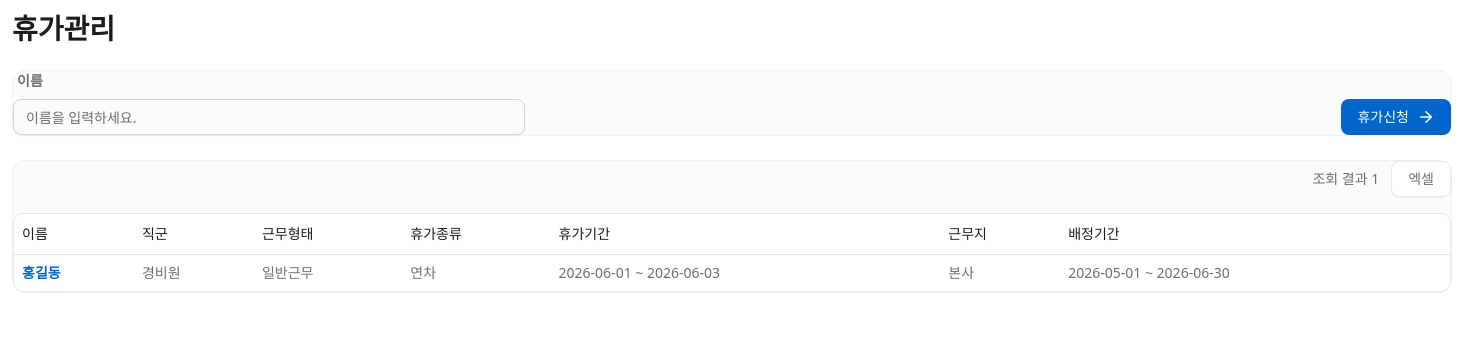
Test: leave page › shows leave rows, filters by name, and links to the detail page
The width and height of the screenshot is (1464, 358).
Expected: the column heading "이름" is shown, [14, 214, 134, 254]
Expected: the column heading "직군" is shown, [134, 214, 254, 254]
Type "김철수" into the field labelled "이름".
click(269, 117); type("김철수")  # box [13, 99, 525, 135]
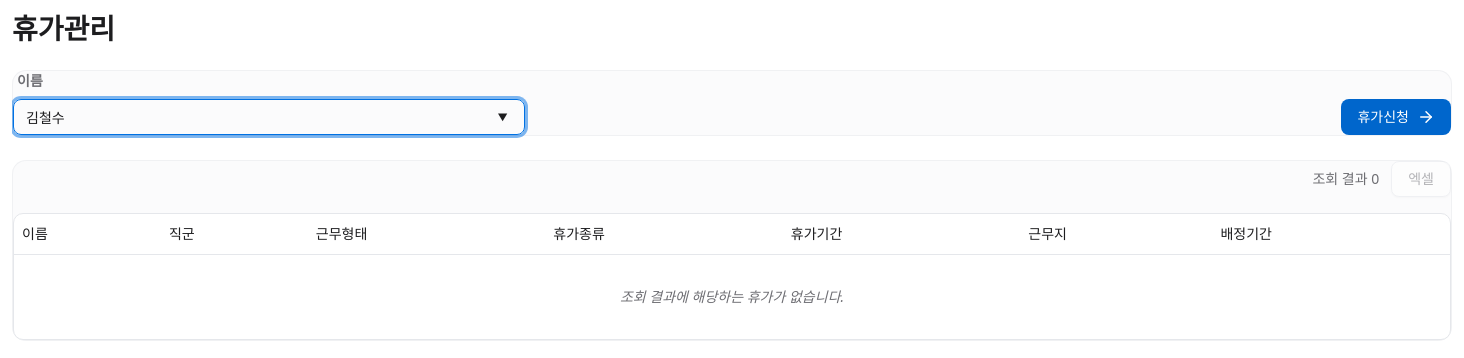
Expected: the button "휴가신청" is shown, [1342, 99, 1451, 135]
Expected: the text "조회 결과에 해당하는 휴가가 없습니다." is shown, [14, 254, 1450, 339]
